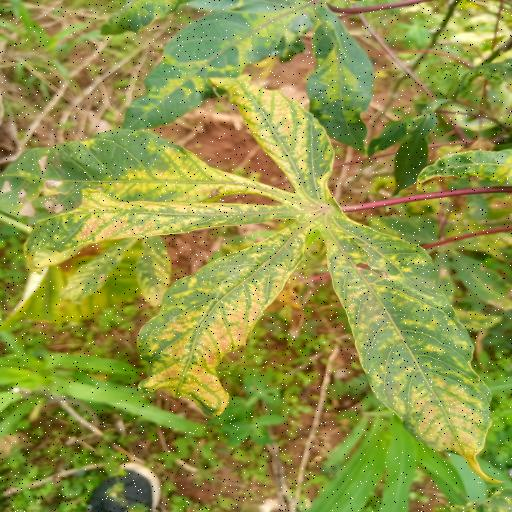Cassava_Mosaic: (0, 70, 498, 463)
